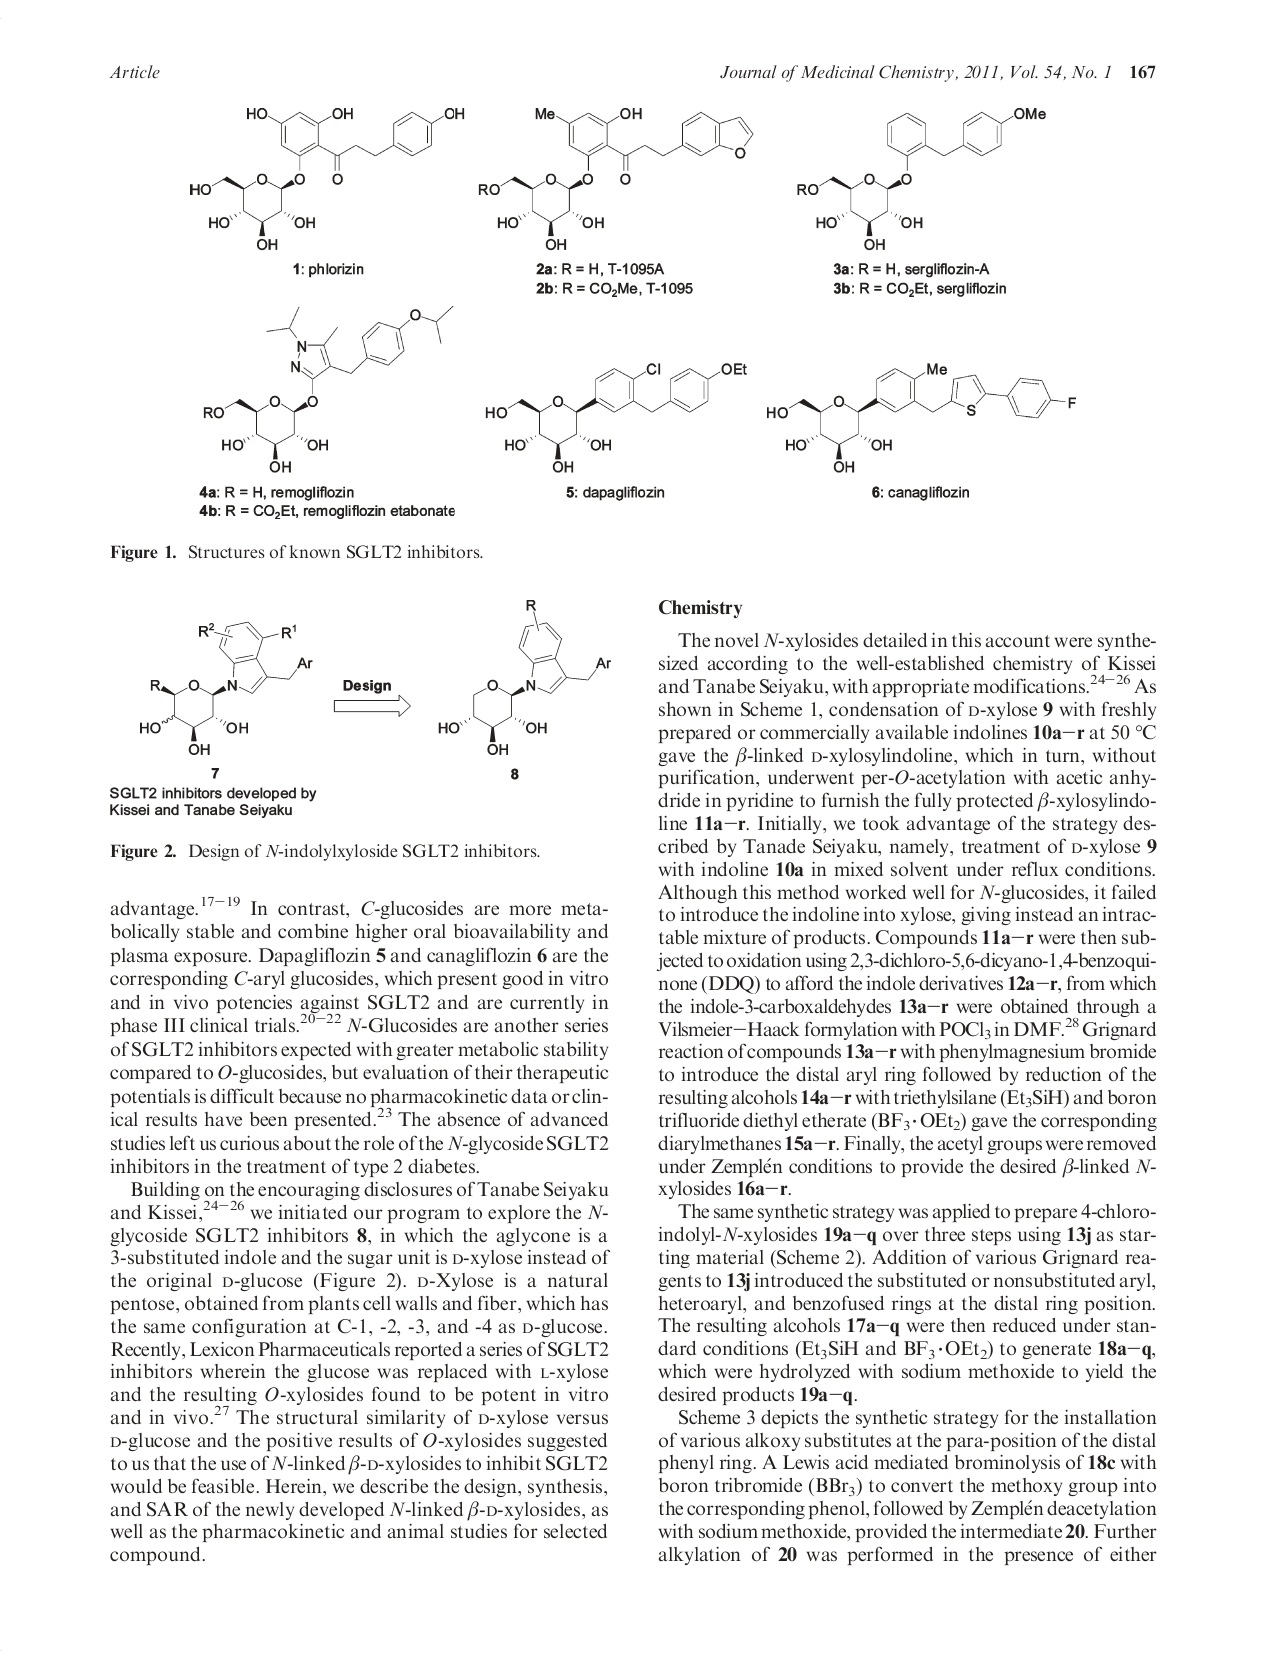exist_molecular: (199, 301, 456, 476), (476, 104, 755, 253), (188, 102, 467, 250), (793, 105, 1047, 251), (765, 360, 1078, 475), (481, 359, 747, 473), (432, 596, 613, 755), (136, 617, 316, 755)
